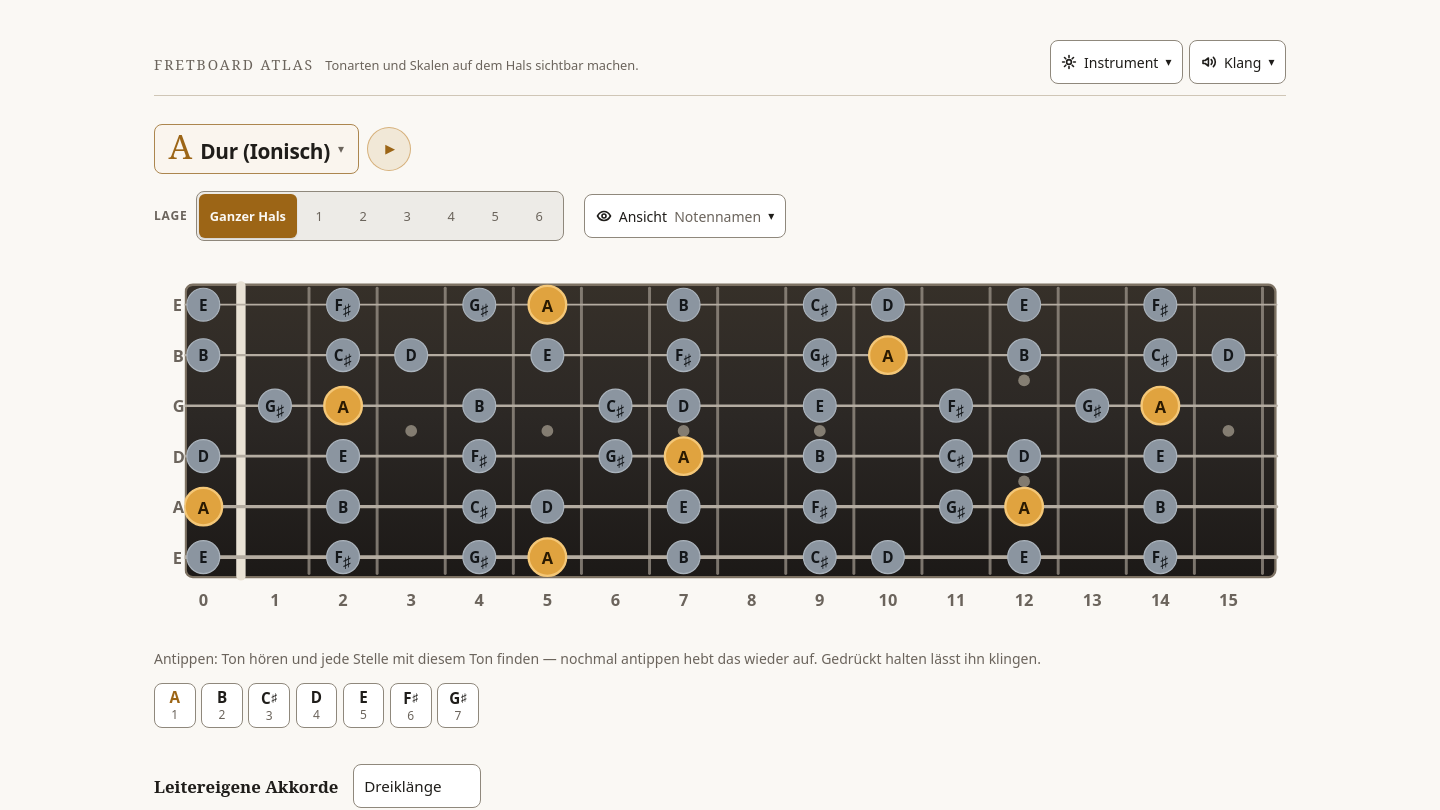
Test: App — Tonart finden › setzt Grundton und Skala aus den eingegebenen Akkorden
The image size is (1440, 810).
Click the button with class "key-trigger" at (256, 149), box [154,124,358,174]
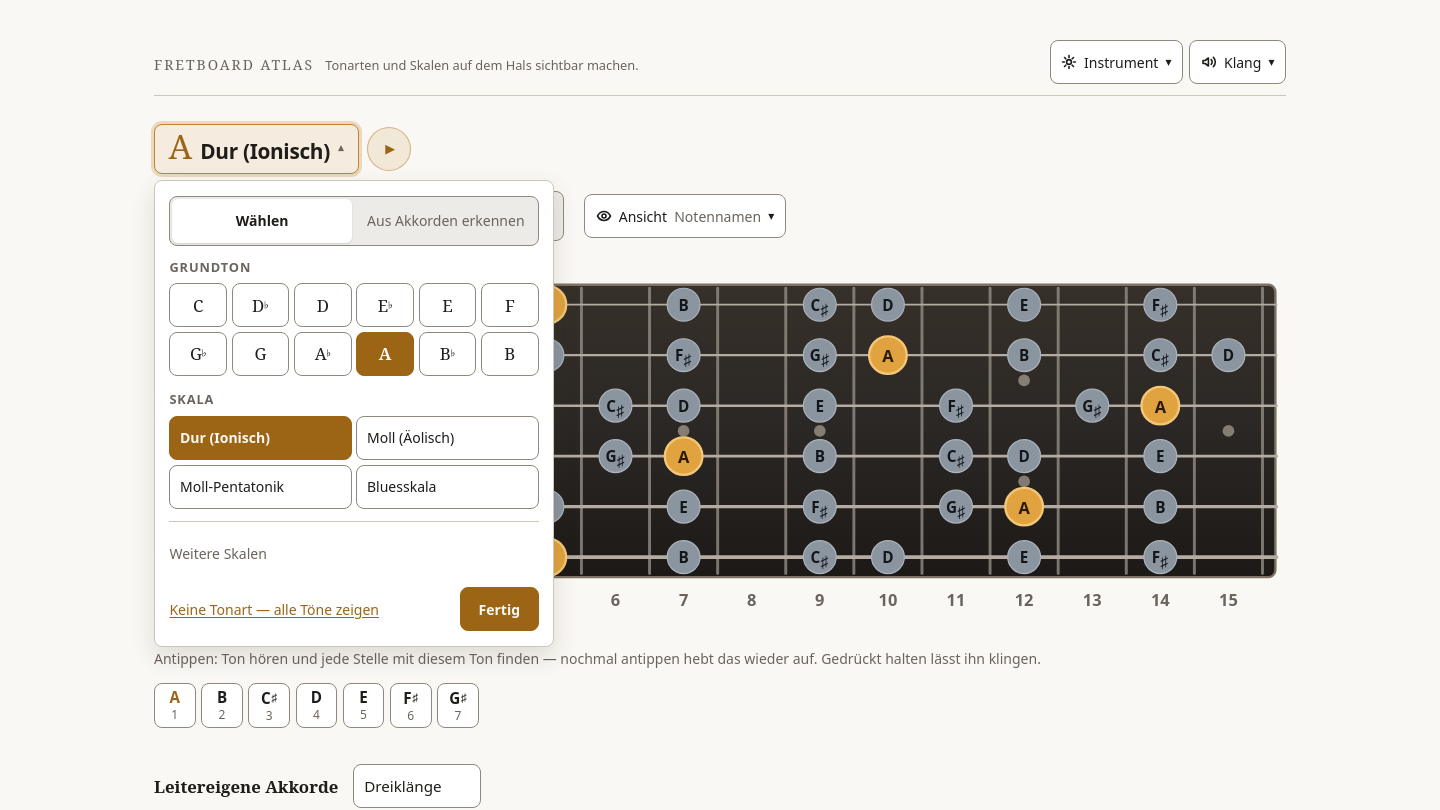
Click the tab "Aus Akkorden erkennen" at (446, 220), box [356,198,536,242]
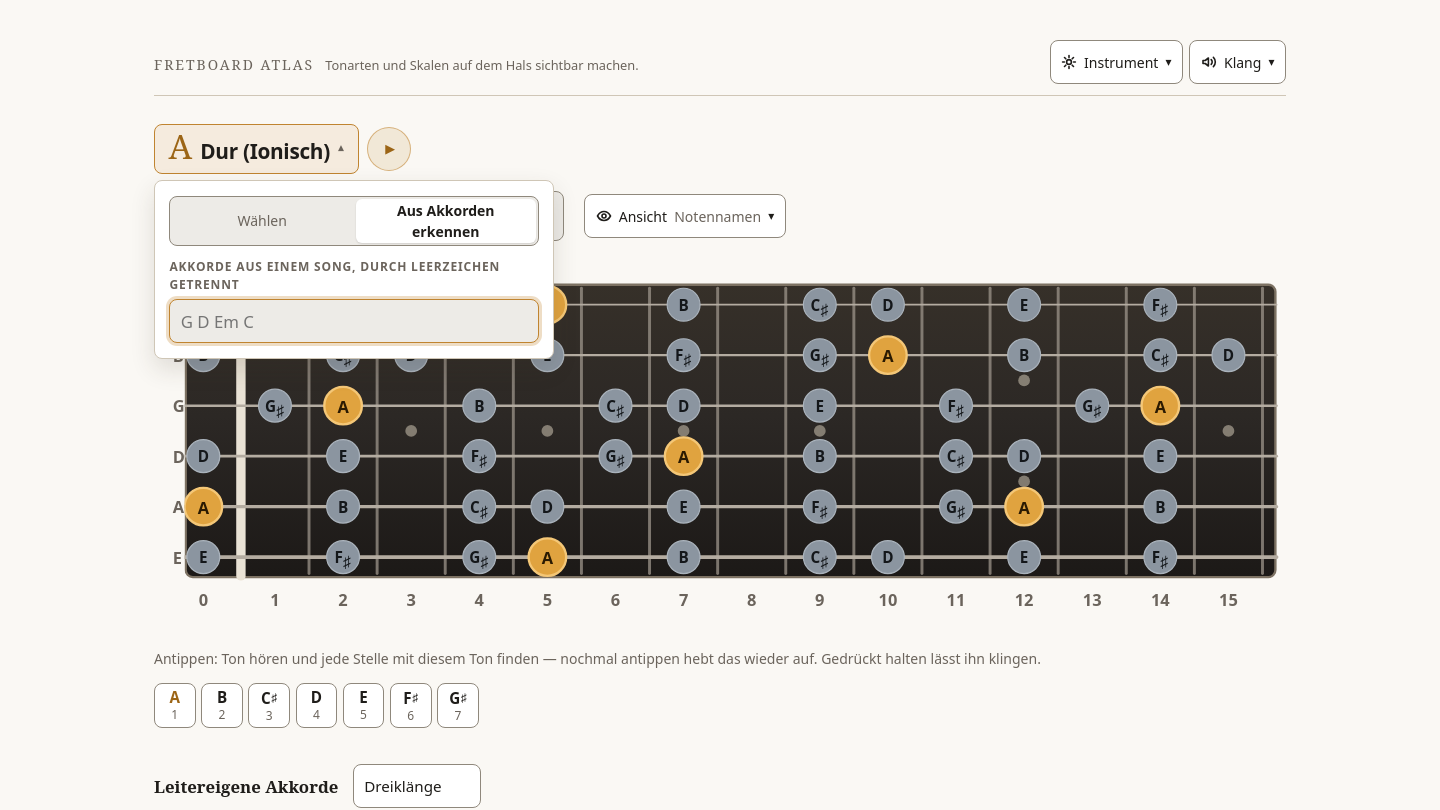
Type "Am F C G" into the field labelled "Akkorde aus einem Song, durch Leerzeichen getrennt" at (354, 321), box [169,299,539,343]
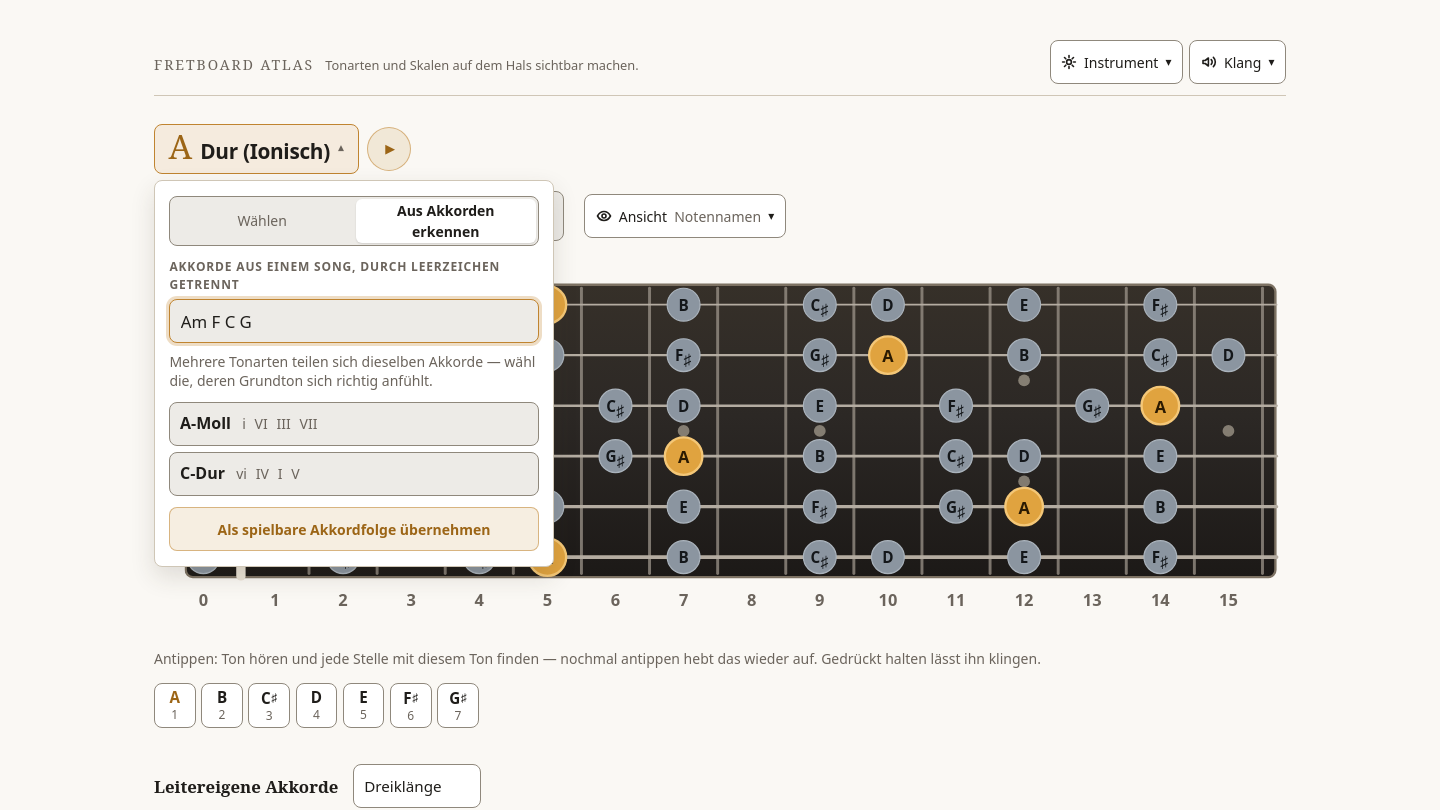
Click the button with class "keyfinder-result" showing "C-Dur vi IV I V" at (202, 473), box [169,452,539,496]
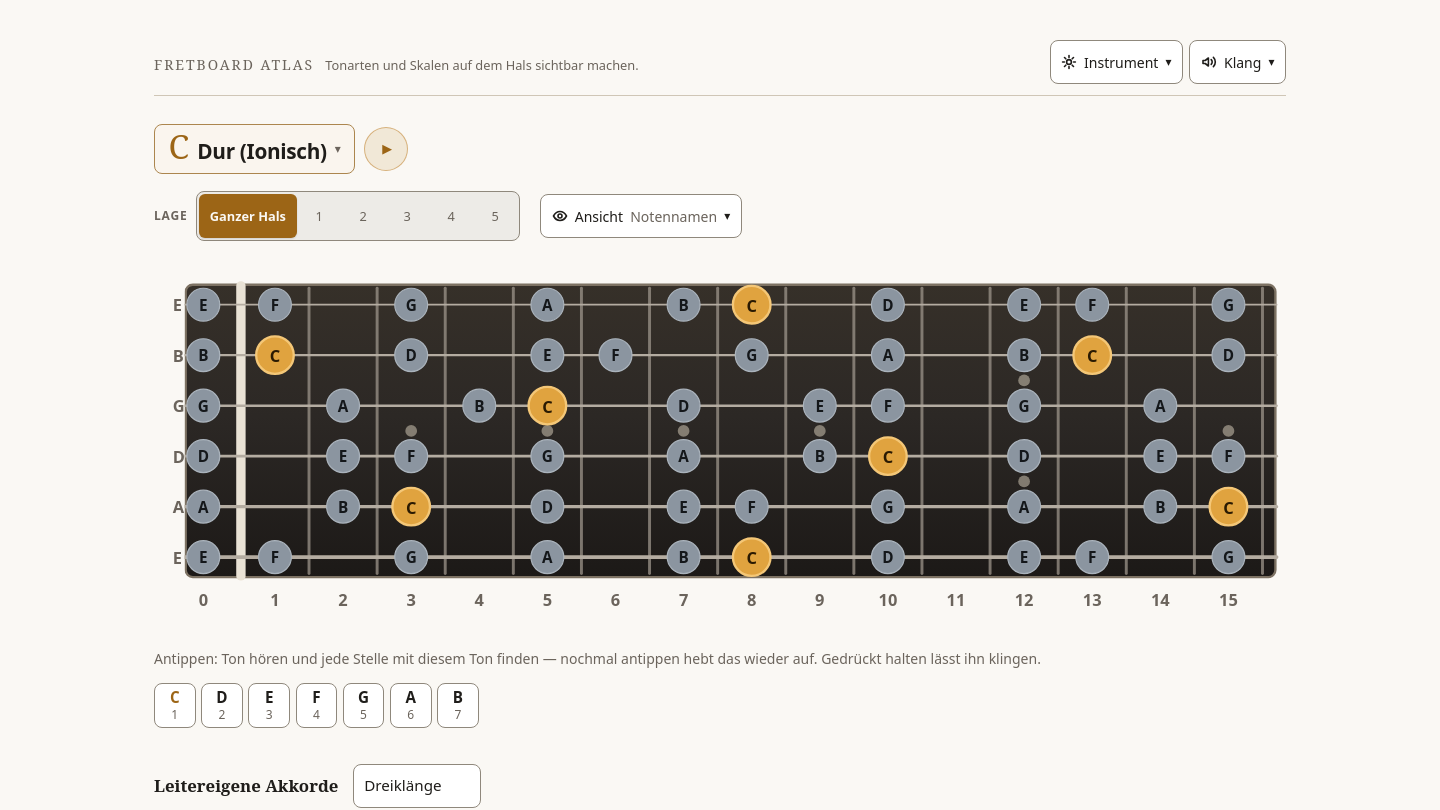
Expected: no dialogs with class "key-panel" are shown
